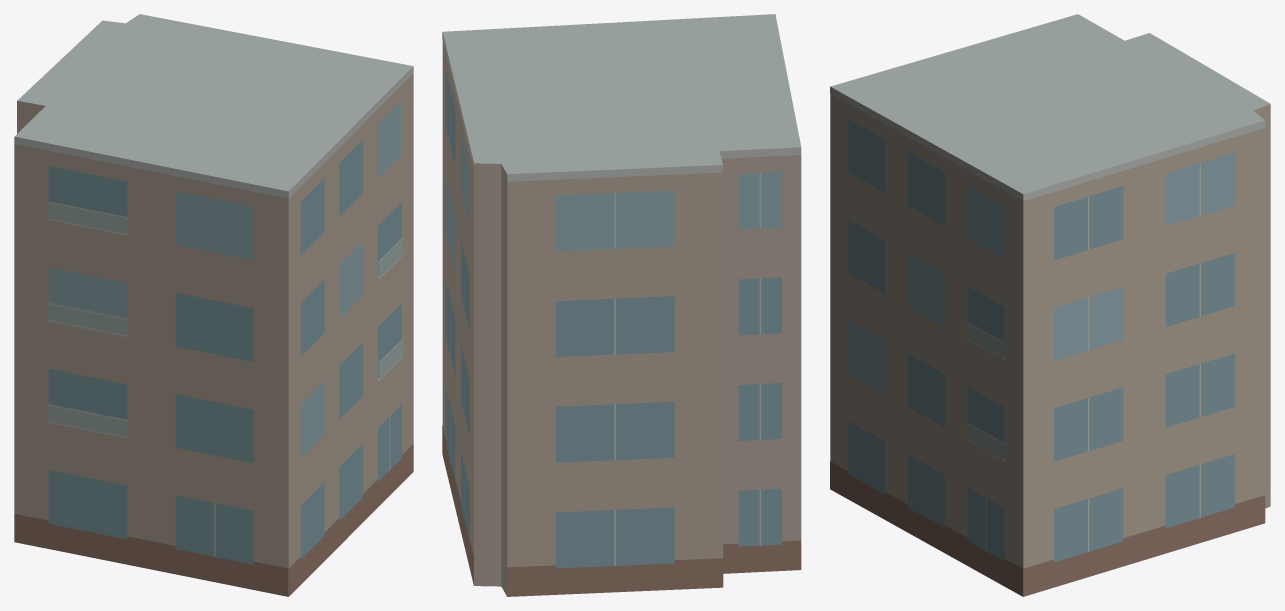
File: survey-upis-32815251.glb
3 renders of one model, left to right at view 1: azimuth 30°, elevation 25°; view 2: azimuth 150°, elevation 25°; view 3: azimuth 270°, elevation 25°, orthographic. The views are drawn at different scales.
Visible parts, largest first — view 1: survey-upis-32815251.tmp; view 2: survey-upis-32815251.tmp; view 3: survey-upis-32815251.tmp.
Part boxes in pixels (<box>): survey-upis-32815251.tmp: <box>14,14,413,596</box>; survey-upis-32815251.tmp: <box>442,14,801,596</box>; survey-upis-32815251.tmp: <box>830,14,1270,596</box>.
Size of the model in its own units: 13.06 by 13.6 by 13.49.
